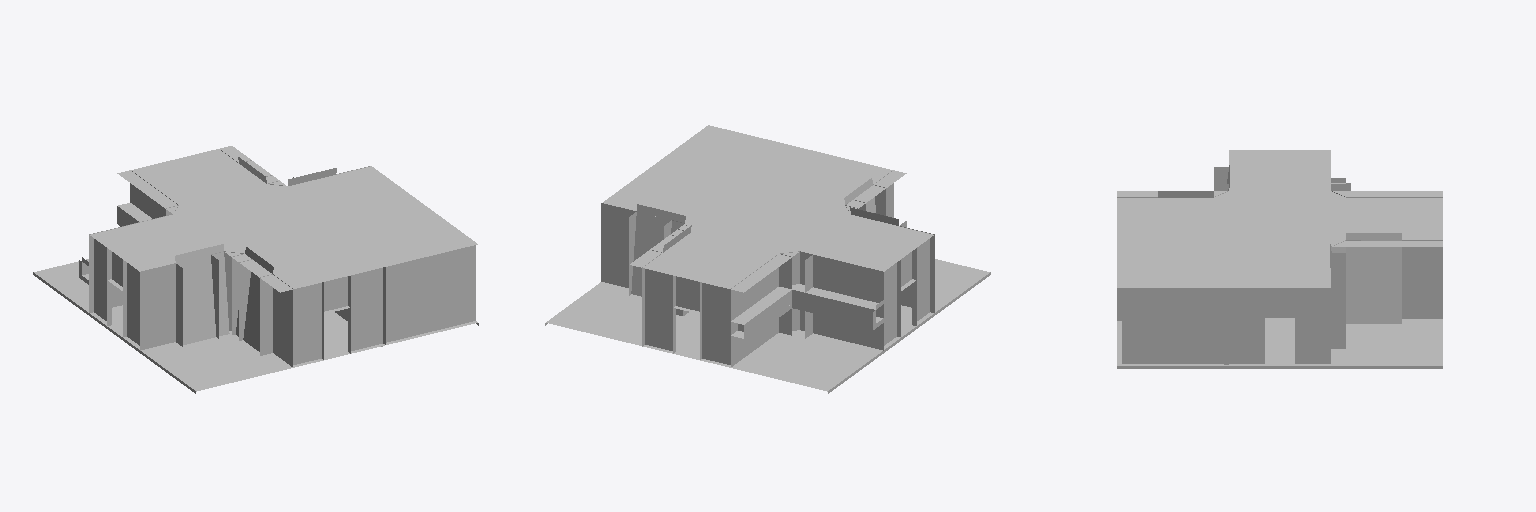
The model's file is LC_room4_info.obj.
The picture shows the model from 3 angles: view 1: azimuth 30°, elevation 25°; view 2: azimuth 150°, elevation 25°; view 3: azimuth 270°, elevation 25°; orthographic projection.
Visible parts, largest first — view 1: LC_room4_info; view 2: LC_room4_info; view 3: LC_room4_info.
Boxes of the visible parts, box(x1,y1,x2,y2) form: LC_room4_info: box(33, 146, 478, 393); LC_room4_info: box(545, 125, 990, 393); LC_room4_info: box(1117, 150, 1442, 368).
Bounding box in the file's own units: 20 × 6.02 × 20.